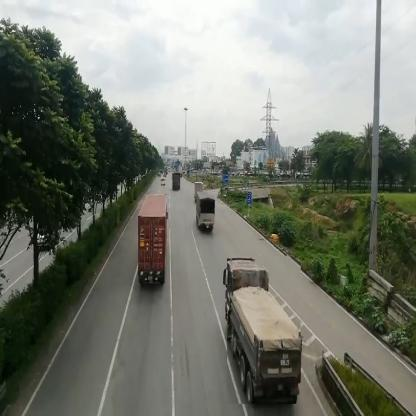container: (139, 194, 168, 286), (172, 174, 182, 192)
truck: (228, 257, 302, 406), (197, 193, 216, 232), (195, 183, 204, 193), (161, 179, 166, 187)
